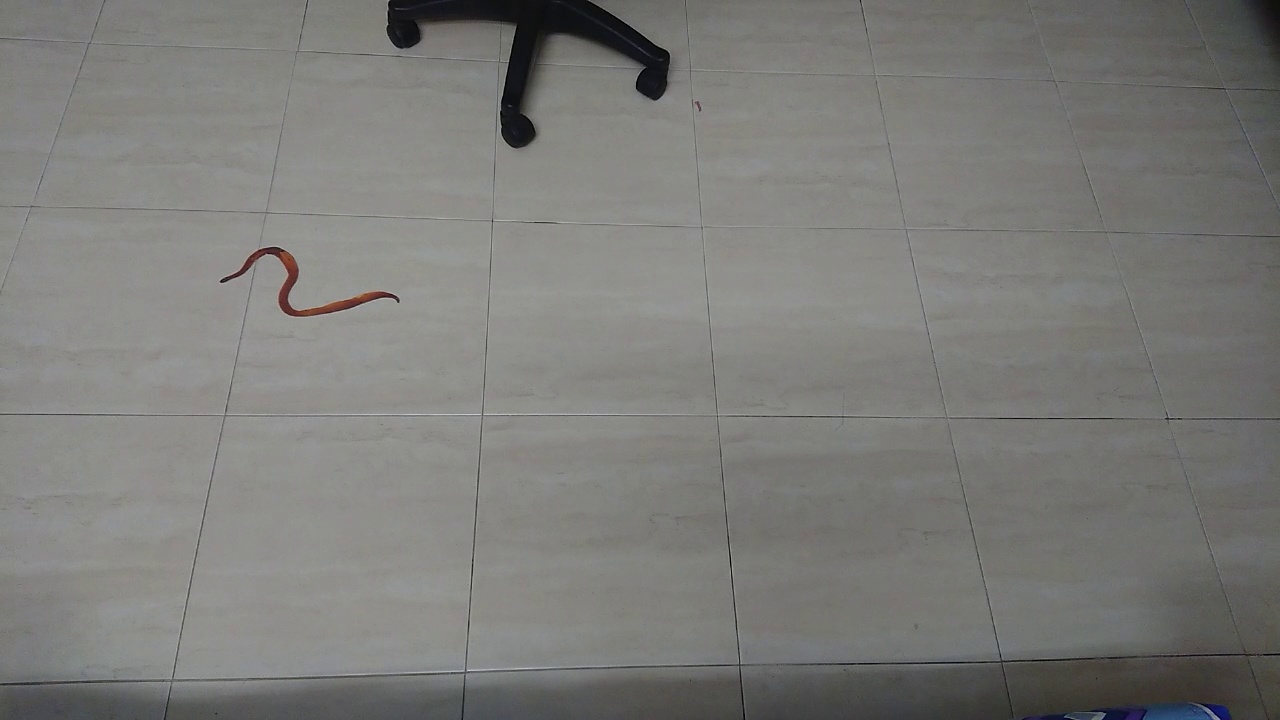snake: (205, 228, 416, 332)
